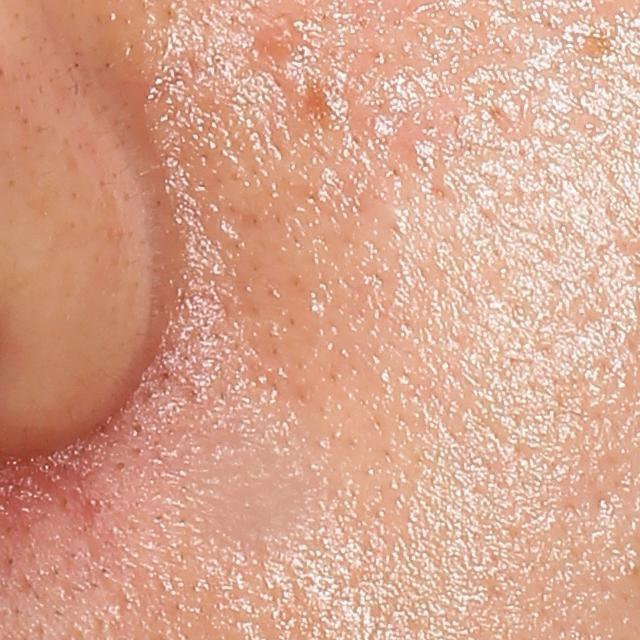papule: (262, 22, 301, 60)
